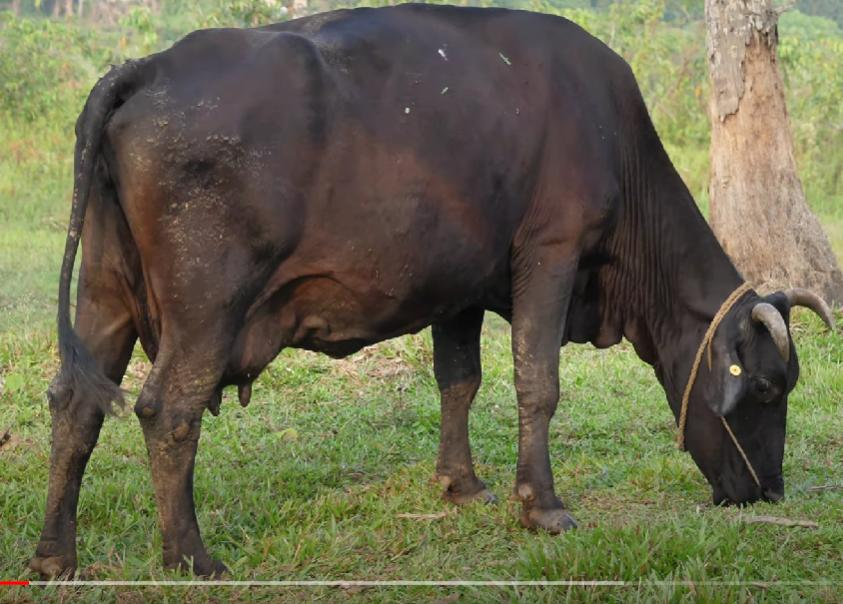cow: (27, 3, 835, 585)
